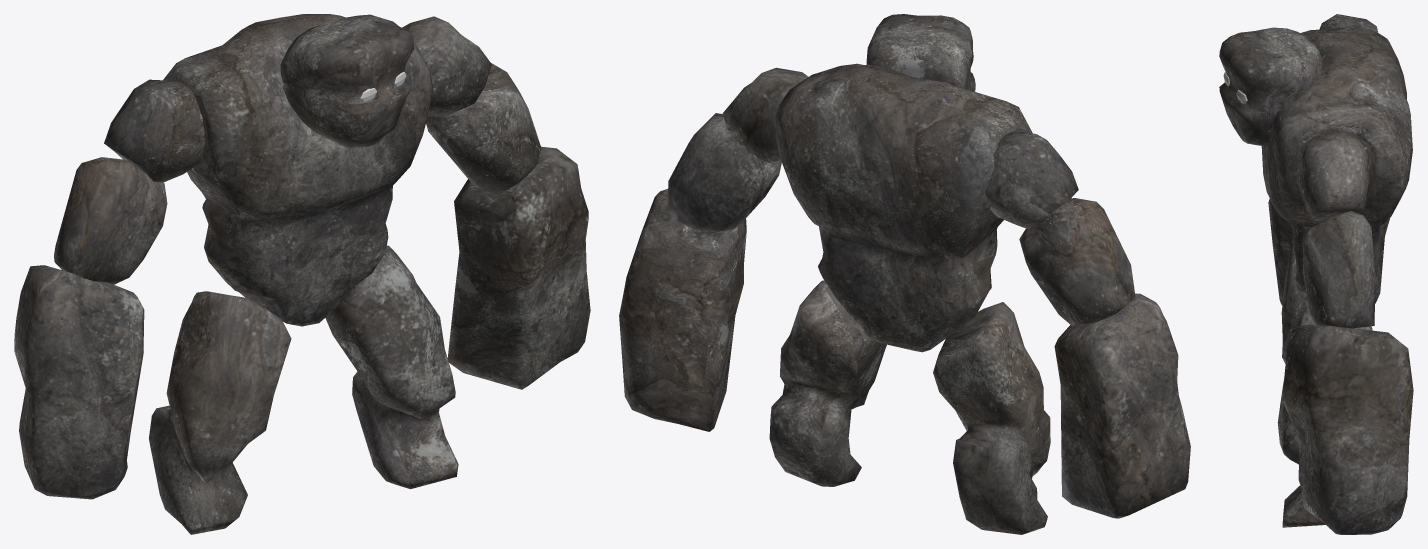
Rendered from walk_000019.obj.
3 views of the same model, side by side, from view 1: azimuth 30°, elevation 25°; view 2: azimuth 150°, elevation 25°; view 3: azimuth 270°, elevation 25° (orthographic). The views are drawn at different scales.
Visible parts, largest first — view 1: hands&leg.001_ice.003, torso.001_ice.005, head.001_ice.004; view 2: hands&leg.001_ice.003, torso.001_ice.005, head.001_ice.004; view 3: hands&leg.001_ice.003, torso.001_ice.005, head.001_ice.004.
Boxes of the visible parts, x1,y1,x2,y2 form: hands&leg.001_ice.003: (14, 16, 590, 534); torso.001_ice.005: (163, 14, 432, 326); head.001_ice.004: (280, 16, 414, 147); hands&leg.001_ice.003: (619, 67, 1190, 534); torso.001_ice.005: (774, 63, 1032, 352); head.001_ice.004: (866, 14, 975, 91); hands&leg.001_ice.003: (1268, 14, 1413, 534); torso.001_ice.005: (1261, 25, 1412, 307); head.001_ice.004: (1219, 27, 1322, 146).
Bounding box in the file's own units: 11.87 × 9.58 × 3.8.
Materials: 2 (1 with a texture image).
